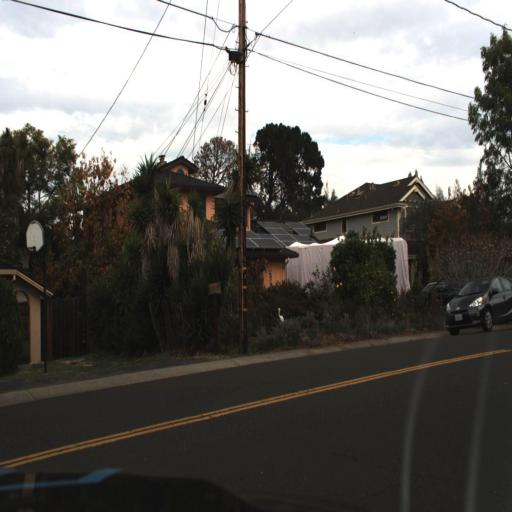car: (438, 264, 511, 336)
